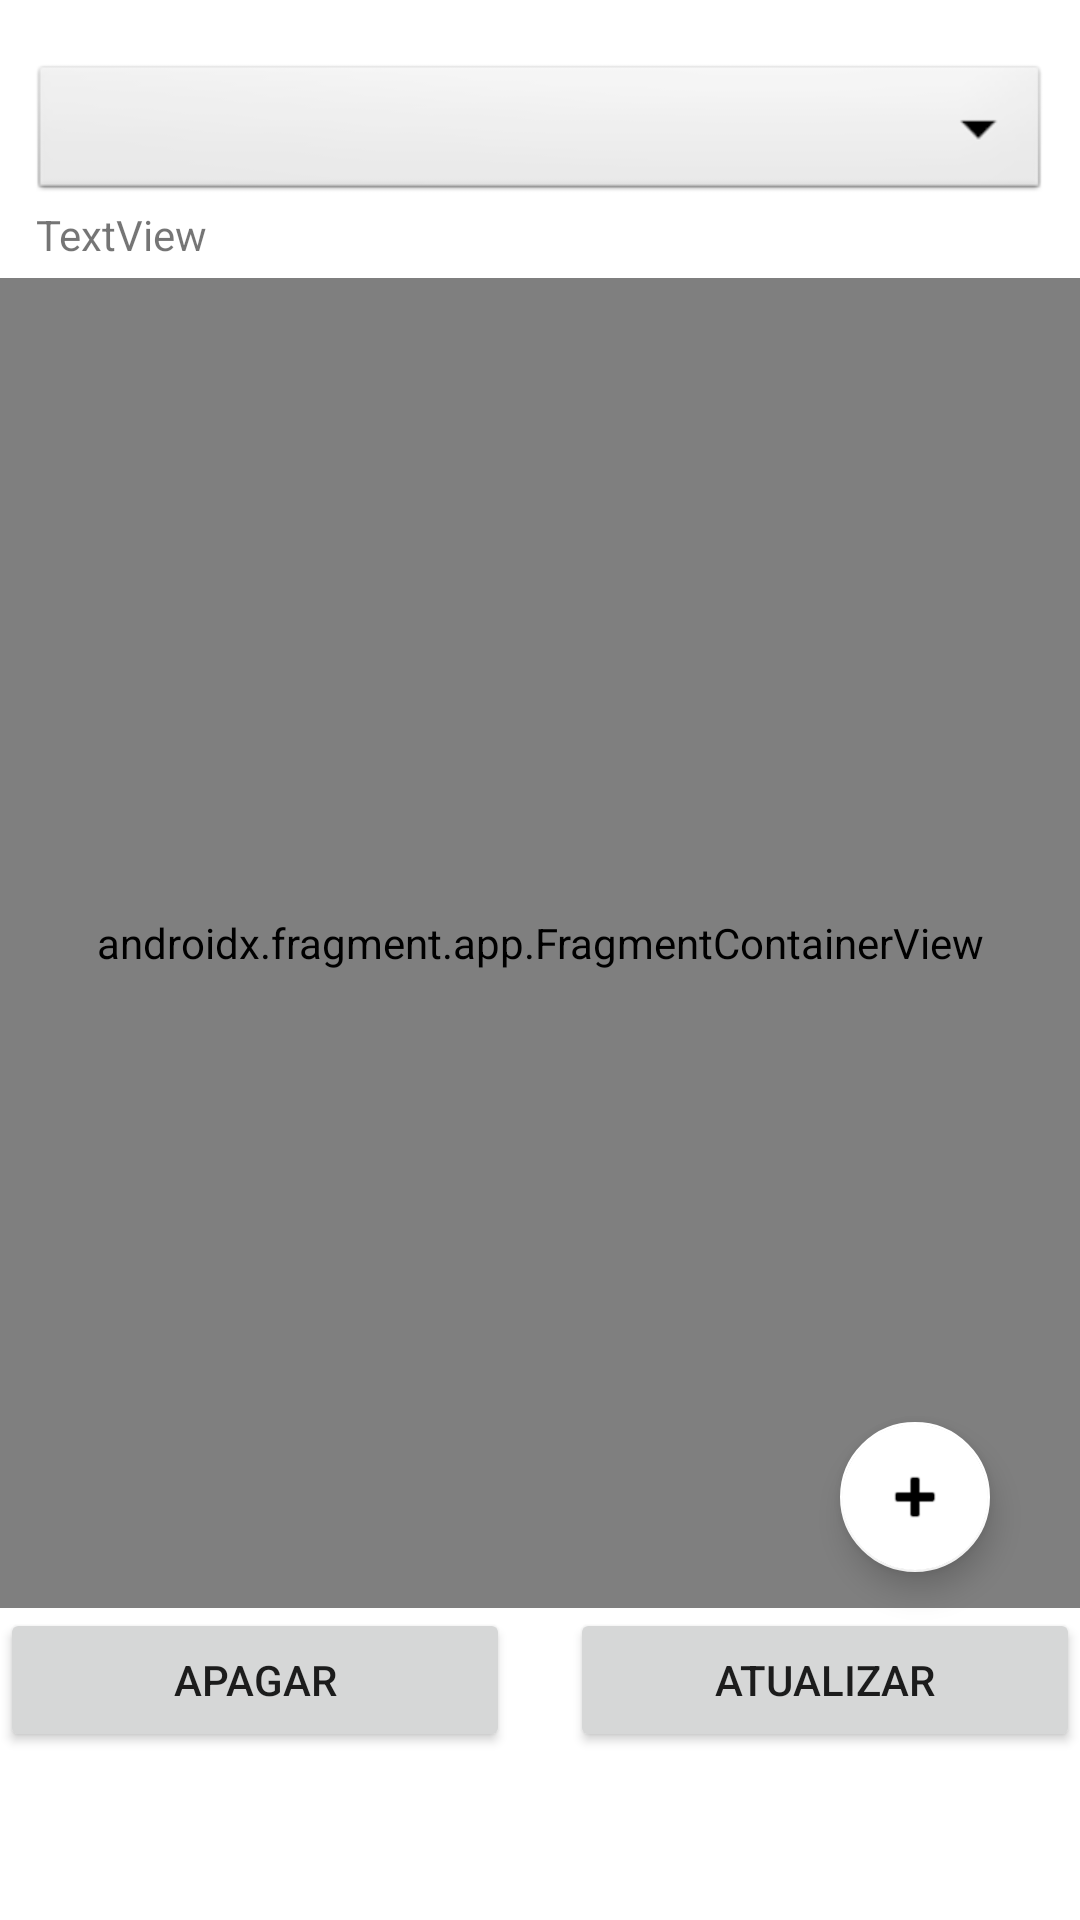

Screen size 1080px×1920px. Icon name, then its center in pixels as [x,y]:
add: [915,1497]
